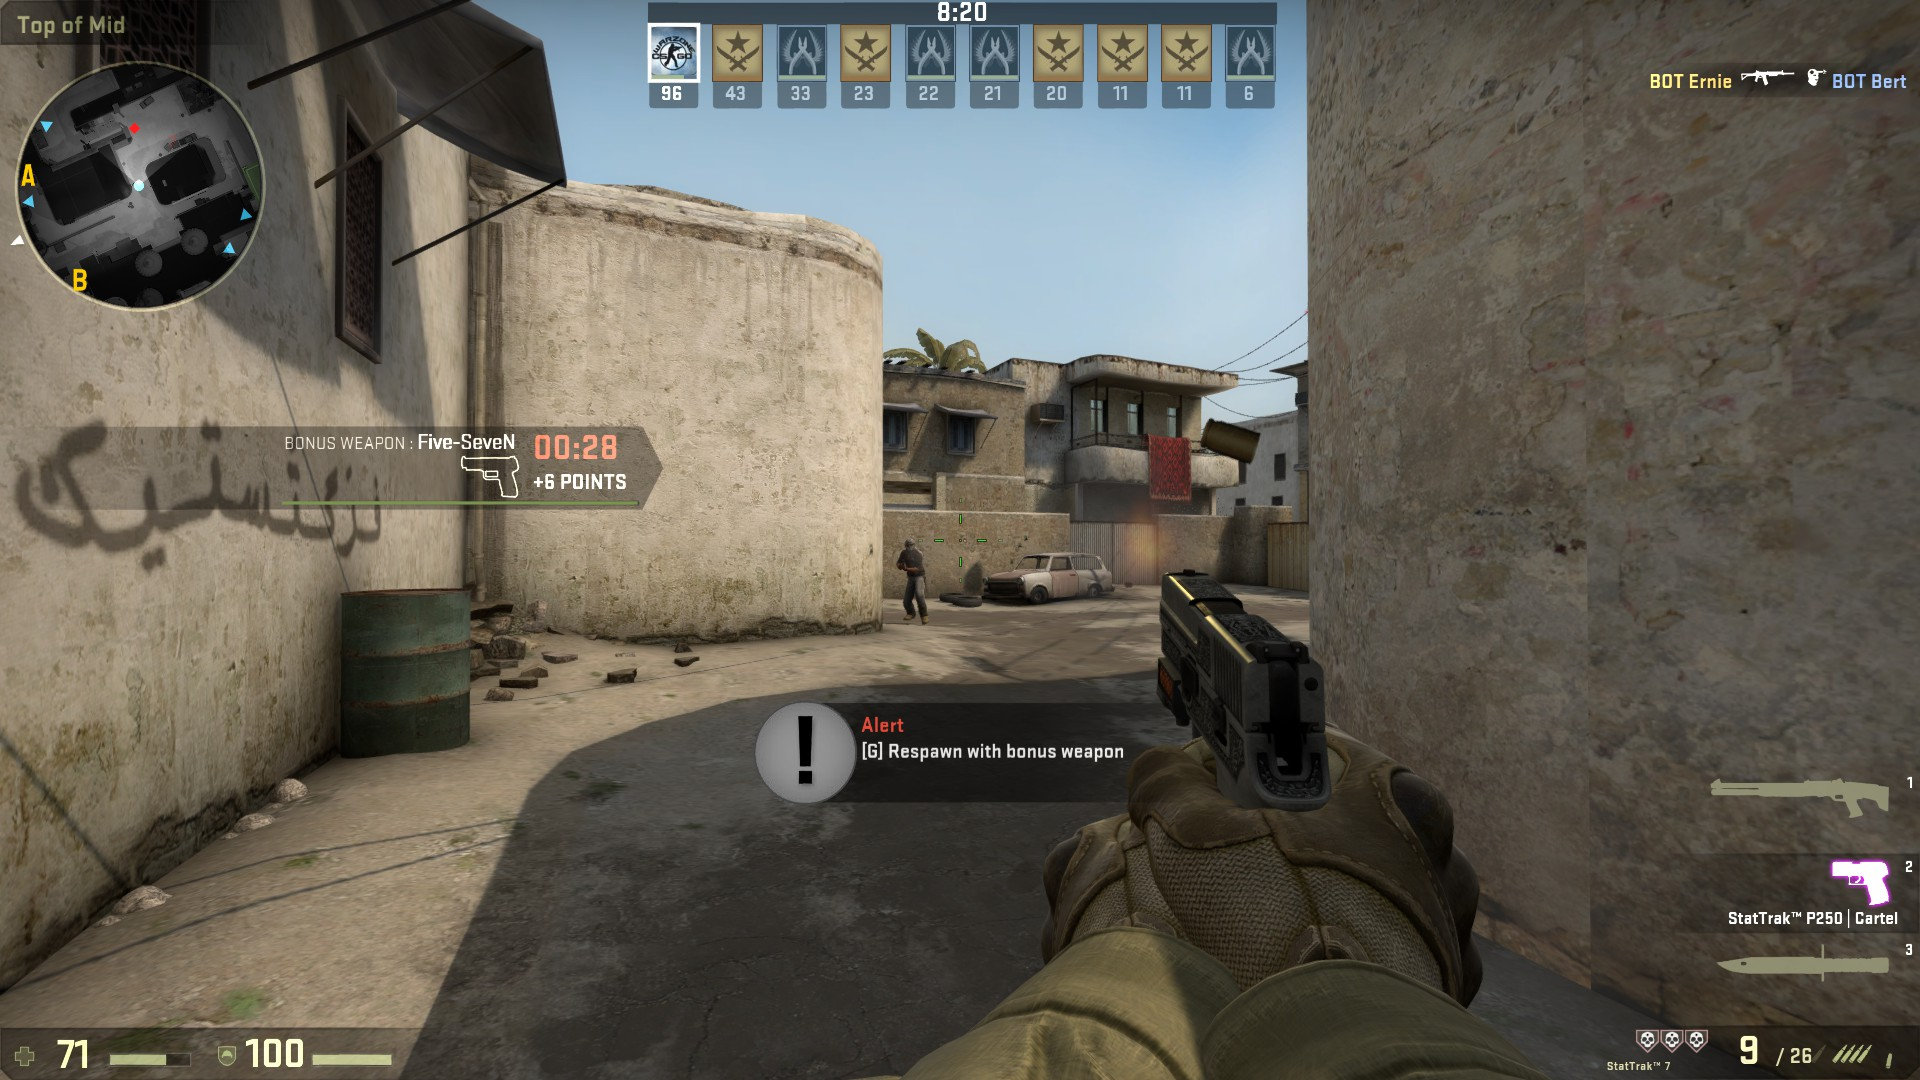t: (895, 538, 930, 624)
th: (902, 537, 916, 553)
